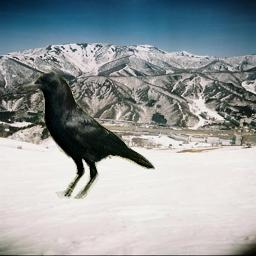Crow: (21, 72, 155, 199)
